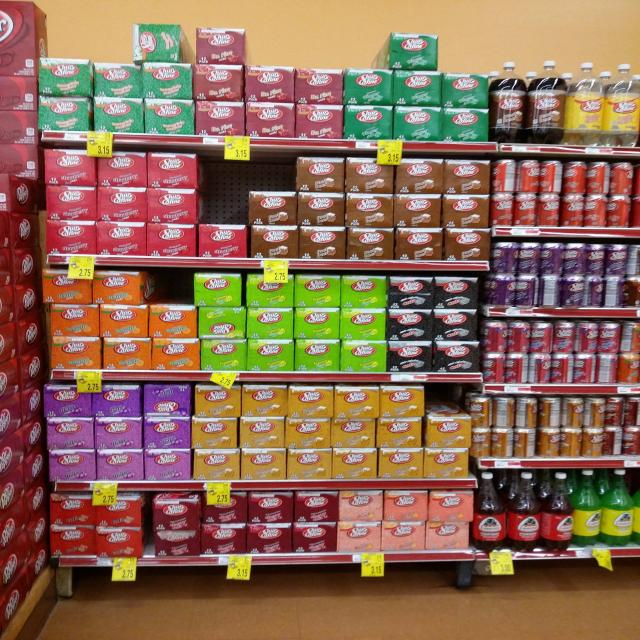unorganised: (131, 20, 180, 64), (493, 157, 517, 196), (513, 395, 538, 431), (539, 273, 563, 307), (510, 319, 533, 353), (537, 395, 560, 428), (560, 426, 583, 459), (540, 160, 562, 194), (493, 395, 515, 428), (507, 353, 530, 384), (603, 425, 623, 458), (605, 274, 624, 307), (516, 428, 536, 459), (621, 321, 639, 355), (598, 353, 617, 385), (629, 245, 640, 275)
